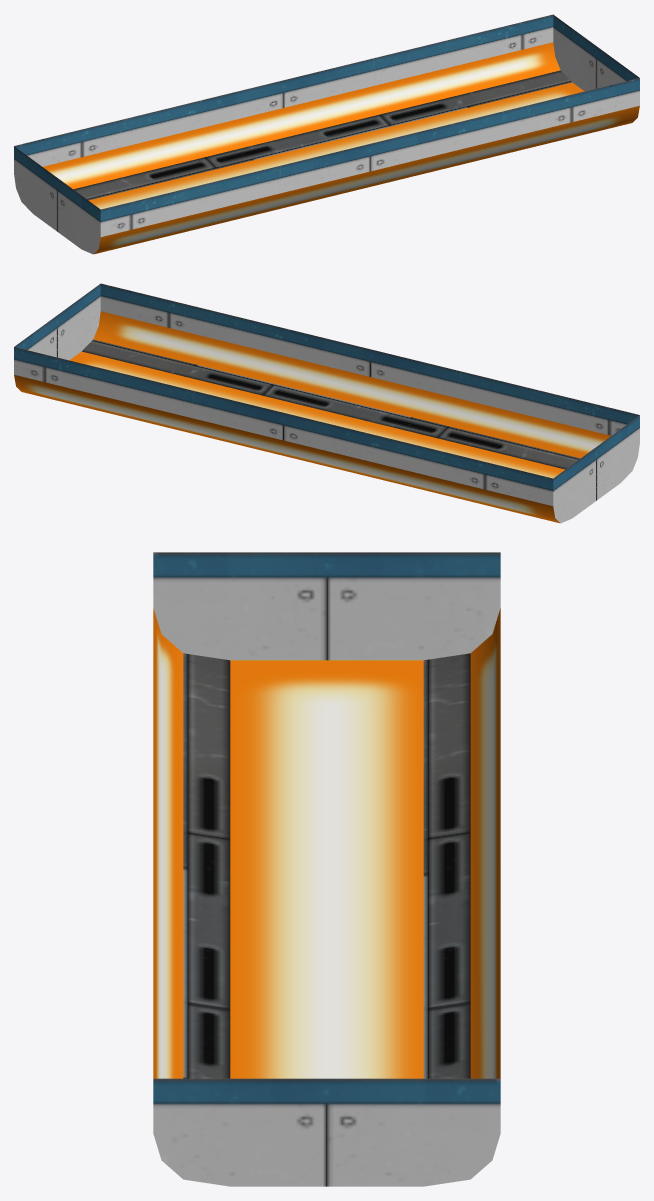
The model's file is Neon_Up_03.FBX.
3 renders of one model, top to bottom at view 1: azimuth 30°, elevation 25°; view 2: azimuth 150°, elevation 25°; view 3: azimuth 270°, elevation 25°, orthographic. The views are drawn at different scales.
Visible parts, largest first — view 1: Neon_Up_02, Neons; view 2: Neon_Up_02, Neons; view 3: Neon_Up_02, Neons.
Part boxes in pixels (x1,y1,x2,y2): Neon_Up_02: [14, 14, 639, 254]; Neons: [43, 42, 639, 254]; Neon_Up_02: [14, 283, 639, 523]; Neons: [14, 311, 610, 523]; Neon_Up_02: [153, 552, 500, 1186]; Neons: [153, 608, 500, 1078].
Size of the model in its own units: 99.98 by 9.56 by 27.86.
